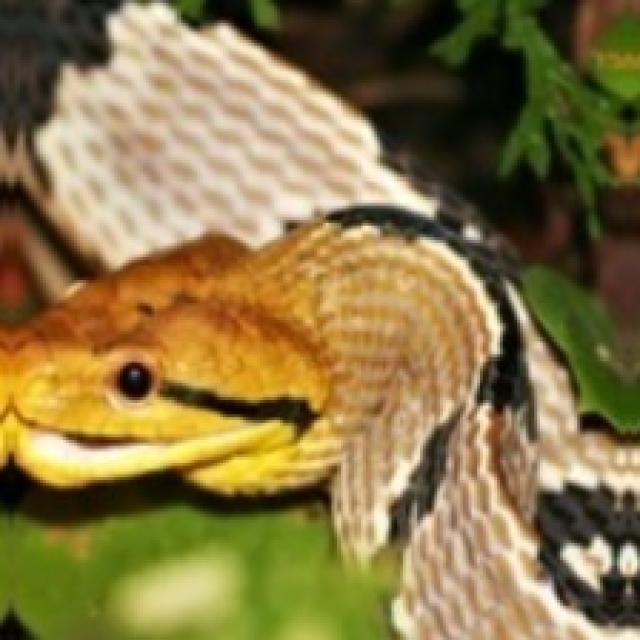dog-toothed cat snake: (0, 3, 637, 637), (0, 209, 637, 637)
